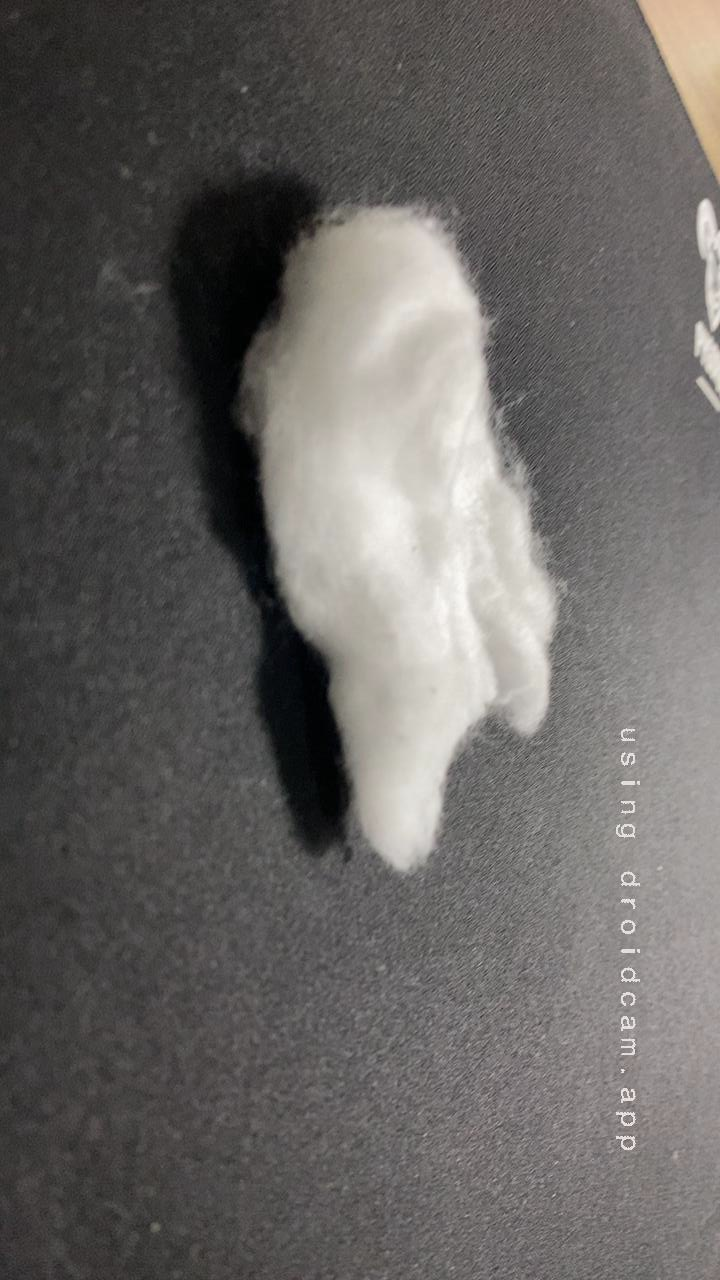cotton: (198, 187, 640, 911)
